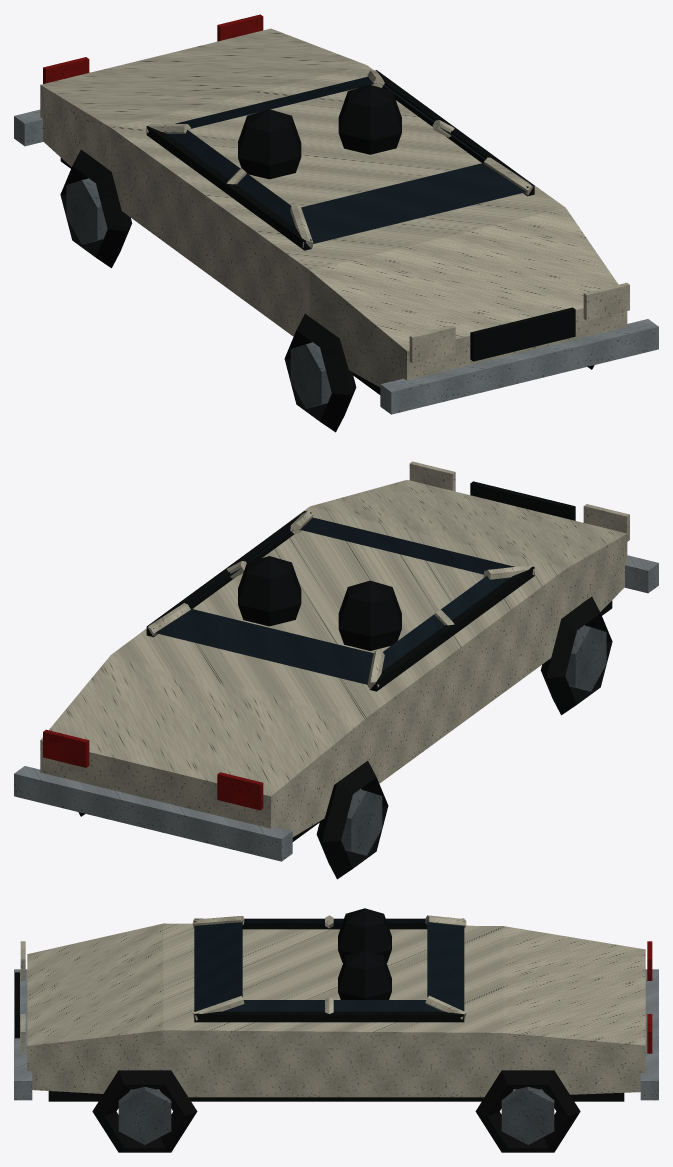
File: PROP-0960AC08F1C0_lod2.glb
3 renders of one model, top to bottom at view 1: azimuth 30°, elevation 25°; view 2: azimuth 150°, elevation 25°; view 3: azimuth 270°, elevation 25°, orthographic. The views are drawn at different scales.
Visible parts, largest first — view 1: shaped_body_panels.011, sloped_cabin_glazing.011, bumper.011, convertible_seats.001, tire.011, rim.011, window_belt.011, radiator_grille.011, lamp_lenses.022, window_pillars.011, lamp_lenses.023; view 2: shaped_body_panels.011, sloped_cabin_glazing.011, bumper.011, convertible_seats.001, tire.011, rim.011, window_belt.011, lamp_lenses.023, window_pillars.011, lamp_lenses.022, radiator_grille.011; view 3: shaped_body_panels.011, sloped_cabin_glazing.011, tire.011, rim.011, window_belt.011, convertible_seats.001, bumper.011, chassis.011, window_pillars.011, lamp_lenses.022, lamp_lenses.023.
Part boxes in pixels (x1,y1,x2,y2): shaped_body_panels.011: (40, 28, 627, 387); sloped_cabin_glazing.011: (167, 76, 525, 243); bumper.011: (14, 109, 658, 414); convertible_seats.001: (238, 84, 401, 179); tire.011: (60, 149, 594, 432); rim.011: (66, 178, 331, 408); window_belt.011: (146, 70, 534, 250); radiator_grille.011: (470, 307, 575, 361); lamp_lenses.022: (409, 282, 629, 363); window_pillars.011: (147, 70, 533, 247); lamp_lenses.023: (43, 14, 263, 83); shaped_body_panels.011: (40, 480, 627, 837); sloped_cabin_glazing.011: (156, 517, 514, 684); bumper.011: (14, 555, 658, 861); convertible_seats.001: (238, 556, 401, 650); tire.011: (78, 596, 612, 879); rim.011: (341, 625, 606, 855); window_belt.011: (146, 511, 534, 691); lamp_lenses.023: (43, 729, 263, 810); window_pillars.011: (147, 510, 534, 689); lamp_lenses.022: (409, 461, 629, 541); radiator_grille.011: (470, 481, 575, 520); shaped_body_panels.011: (27, 923, 645, 1097); sloped_cabin_glazing.011: (194, 920, 464, 1011); tire.011: (92, 1070, 580, 1152); rim.011: (118, 1086, 554, 1144); window_belt.011: (194, 918, 464, 1022); convertible_seats.001: (338, 908, 391, 999); bumper.011: (14, 969, 658, 1100); chassis.011: (48, 1091, 624, 1101); window_pillars.011: (192, 915, 466, 1020); lamp_lenses.022: (20, 941, 25, 1053); lamp_lenses.023: (647, 941, 652, 1053).
Bounding box in the file's own units: 1.98 × 1.32 × 4.54.
7 materials, 7 textured.
